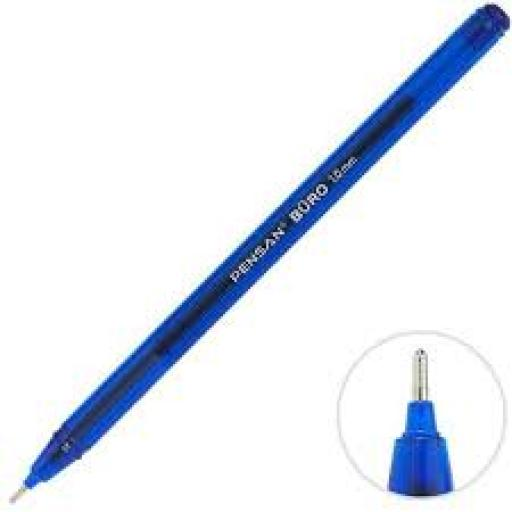tukenmez-kalem: (353, 320, 494, 491), (14, 363, 159, 504)
